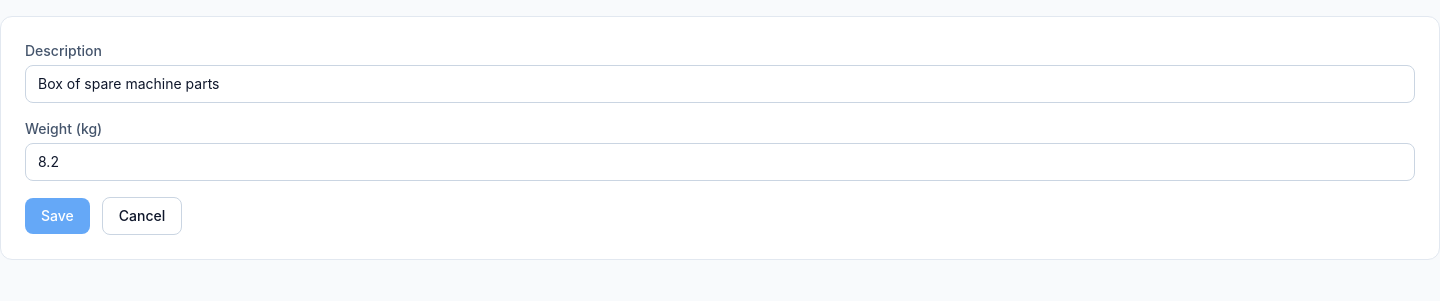
EditShipmentForm › shows a validation error of the API under the field
This screenshot has width=1440, height=301.
In the field labelled "Description": point(720, 84) [25,65,1415,103], type "!"
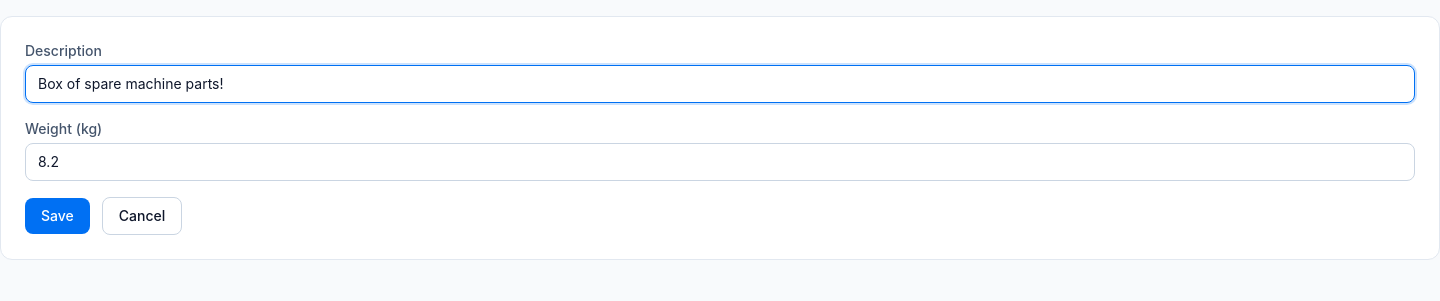
Click the button "Save": point(57, 216) [25,198,90,234]
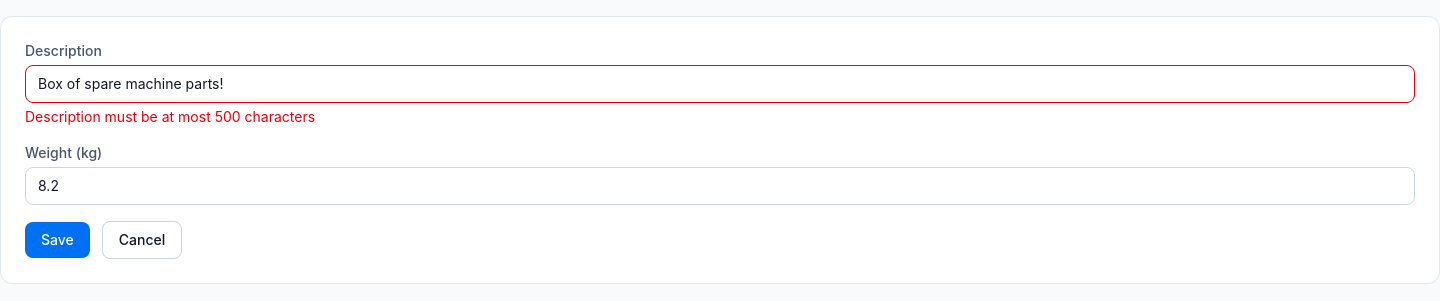
Now the message reads "Description must be at most 500 characters", box [25,108,315,125]
